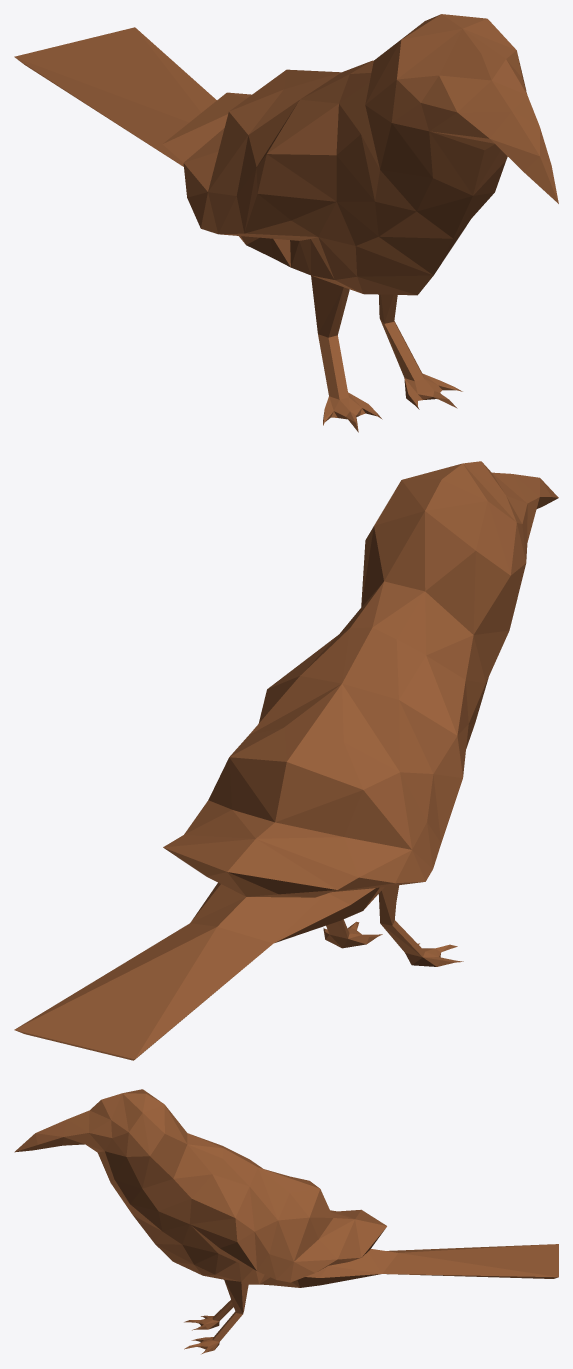
Rendered from Crow.FBX.
3 renders of one model, top to bottom at view 1: azimuth 30°, elevation 25°; view 2: azimuth 150°, elevation 25°; view 3: azimuth 270°, elevation 25°, orthographic. The views are drawn at different scales.
Parts seen in each view (by area): view 1: Crow; view 2: Crow; view 3: Crow.
Part boxes in pixels (x1,y1,x2,y2): Crow: (14,14,558,432); Crow: (14,461,558,1060); Crow: (14,1089,558,1354).
Bounding box in the file's own units: 40.64 × 74.59 × 152.
